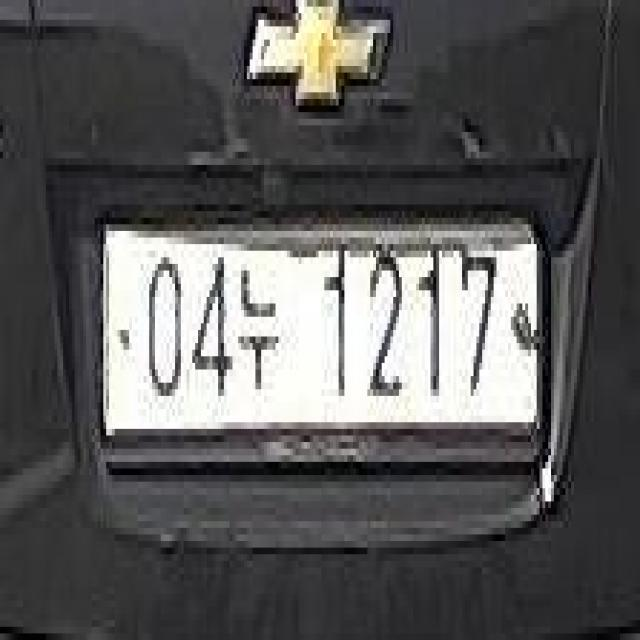illegal_plate: (95, 206, 549, 471)
